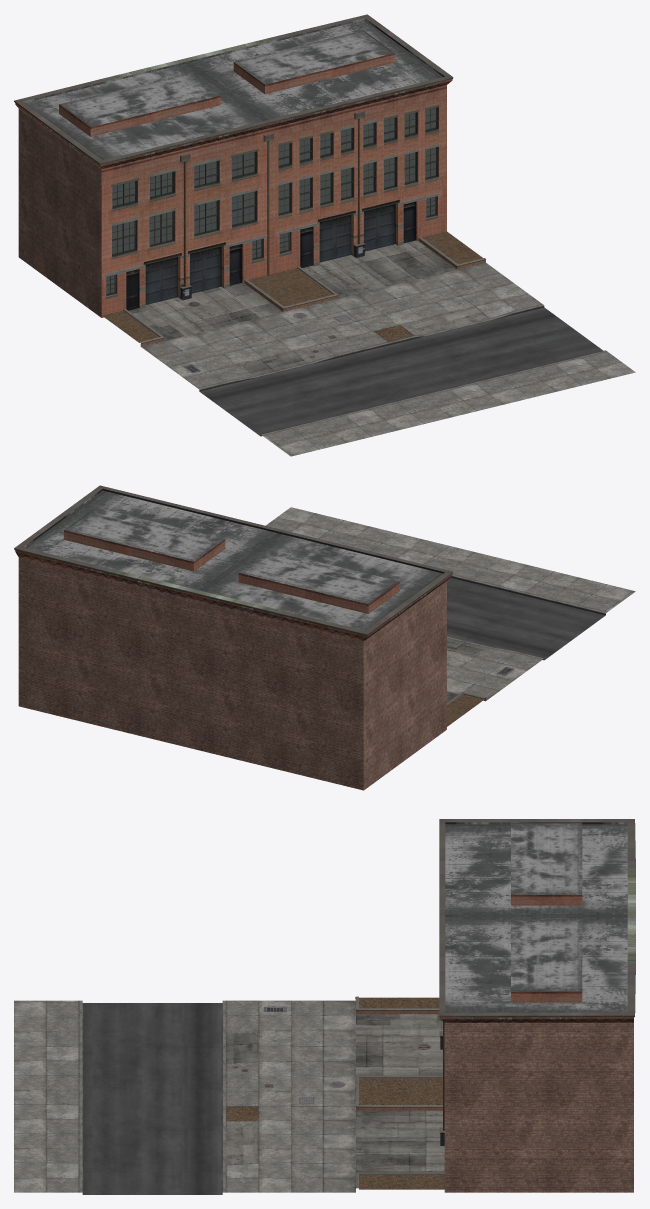
Rendered from nyc_modern_dwellings.glb.
The picture shows the model from 3 angles, top to bottom: view 1: azimuth 30°, elevation 25°; view 2: azimuth 150°, elevation 25°; view 3: azimuth 270°, elevation 25°; orthographic projection. The views are drawn at different scales.
Parts seen in each view (by area): view 1: main.006, Road.001, main.008, Road.002, main.002, main.010, main.007, main.013, Road.009, Road.006; view 2: main.002, main.008, Road.001, main.006, Road.002, Road.006, main.013; view 3: Road.001, main.008, main.002, Road.002, main.010, main.006, main.013, Road.009, Road.006.
Part boxes in pixels (<box>): main.006: <box>14,14,485,346</box>; Road.001: <box>141,262,635,456</box>; main.008: <box>23,18,444,159</box>; Road.002: <box>199,307,603,435</box>; main.002: <box>18,109,101,317</box>; main.010: <box>128,240,456,340</box>; main.007: <box>106,108,435,293</box>; main.013: <box>102,231,482,342</box>; Road.009: <box>240,306,489,376</box>; Road.006: <box>198,304,606,436</box>; main.002: <box>18,557,446,790</box>; main.008: <box>23,489,444,630</box>; Road.001: <box>266,507,635,700</box>; main.006: <box>14,485,485,705</box>; Road.002: <box>447,577,605,659</box>; Road.006: <box>447,574,606,660</box>; main.013: <box>447,694,484,726</box>; Road.001: <box>14,1000,355,1192</box>; main.008: <box>445,822,627,1012</box>; main.002: <box>444,1023,633,1192</box>; Road.002: <box>82,1003,222,1194</box>; main.010: <box>356,1014,444,1172</box>; main.006: <box>355,819,635,1188</box>; main.013: <box>226,997,444,1189</box>; Road.009: <box>226,1032,258,1165</box>; Road.006: <box>79,1000,225,1192</box>.
Bounding box in the file's own units: 130 × 58.87 × 174.
9 materials, 9 textured.
